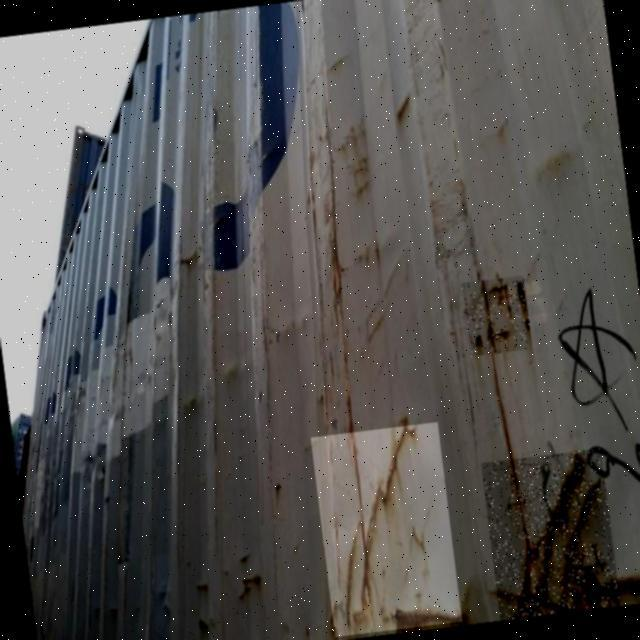Rust: (310, 422, 462, 637), (481, 448, 620, 621), (459, 275, 532, 356)
